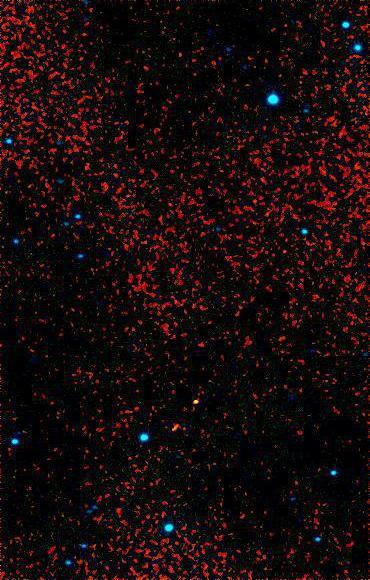star: (180, 388, 210, 418)
